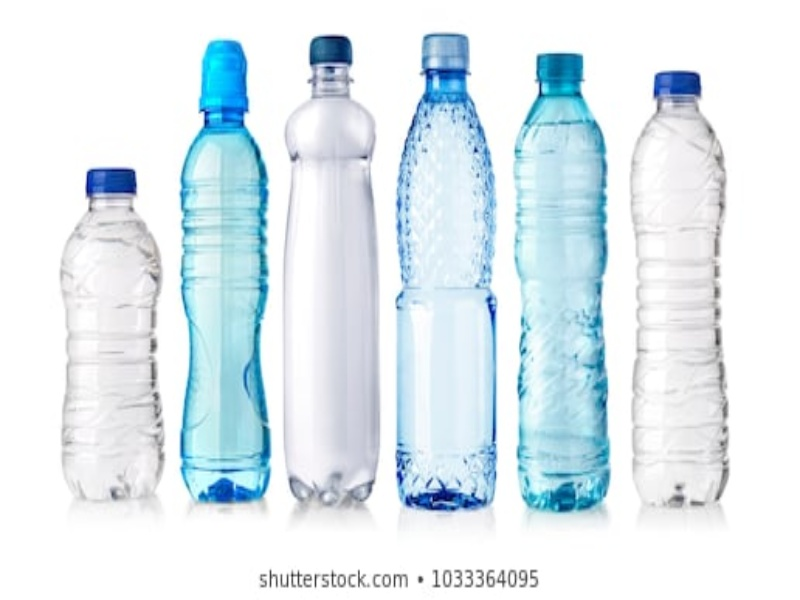bottle-cap: (195, 39, 254, 109), (420, 35, 474, 76), (534, 51, 587, 84), (84, 168, 138, 199), (652, 71, 705, 100), (307, 35, 355, 65)
plastic-bottle: (397, 33, 499, 510), (514, 53, 620, 511), (283, 35, 382, 508), (631, 71, 733, 508), (179, 38, 274, 506), (54, 169, 164, 502)
